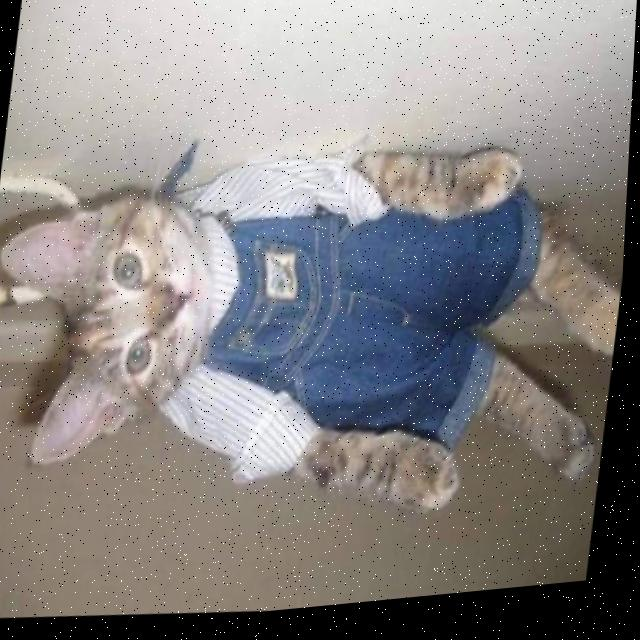Cats: (0, 101, 634, 584)
